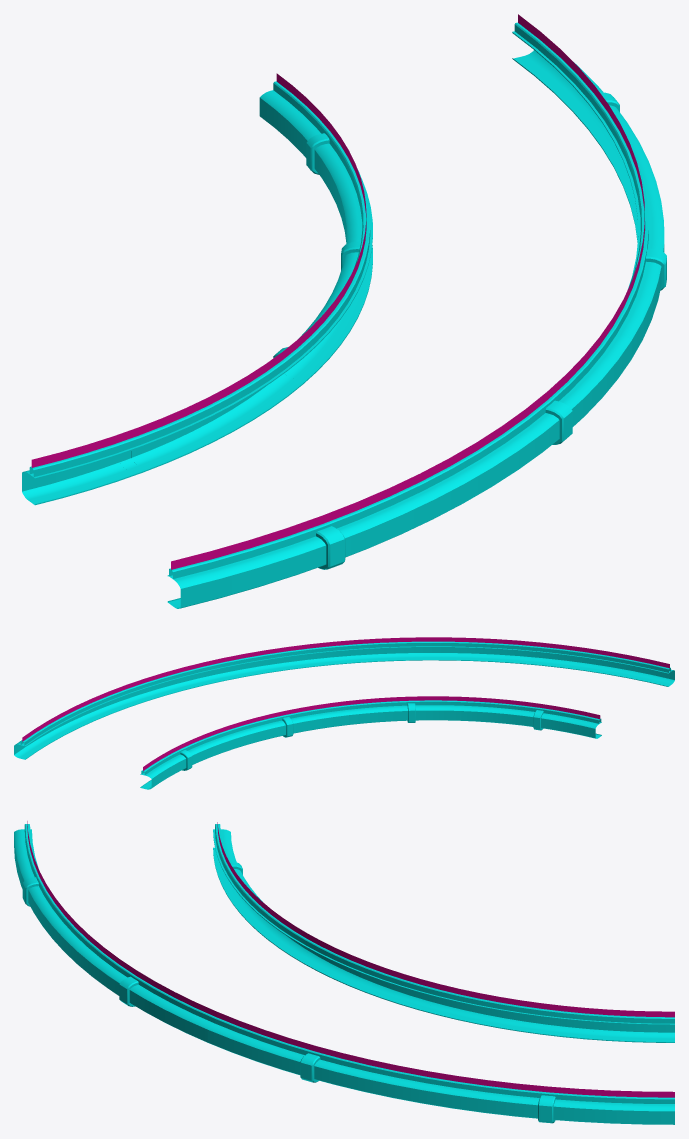
The model's file is Mur_V_90x1.fbx.
The picture shows the model from 3 angles, top to bottom: view 1: azimuth 30°, elevation 25°; view 2: azimuth 150°, elevation 25°; view 3: azimuth 270°, elevation 25°; orthographic projection. The views are drawn at different scales.
Parts seen in each view (by area): view 1: polySurface1170; view 2: polySurface1170; view 3: polySurface1170.
Boxes of the visible parts, x1=… form: polySurface1170: x1=22, y1=14, x2=666, y2=608; polySurface1170: x1=14, y1=637, x2=674, y2=789; polySurface1170: x1=14, y1=821, x2=674, y2=1124.
Bounding box in the file's own units: 45.7 × 2.5 × 45.7.
